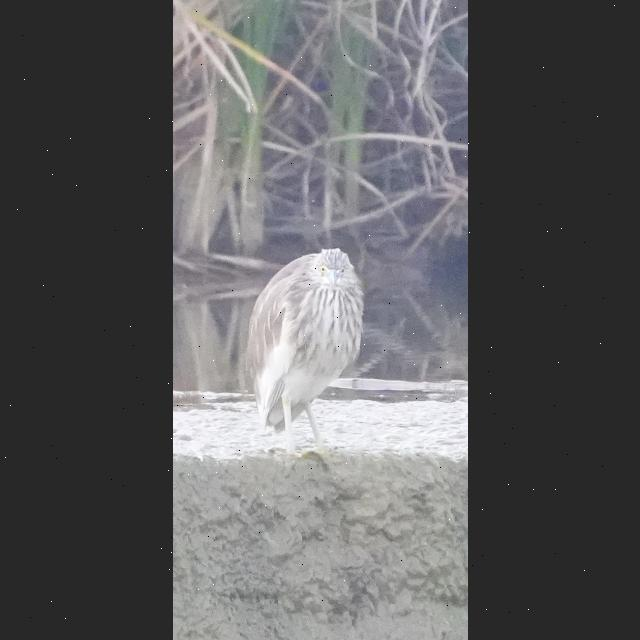heron: (236, 243, 374, 474)
